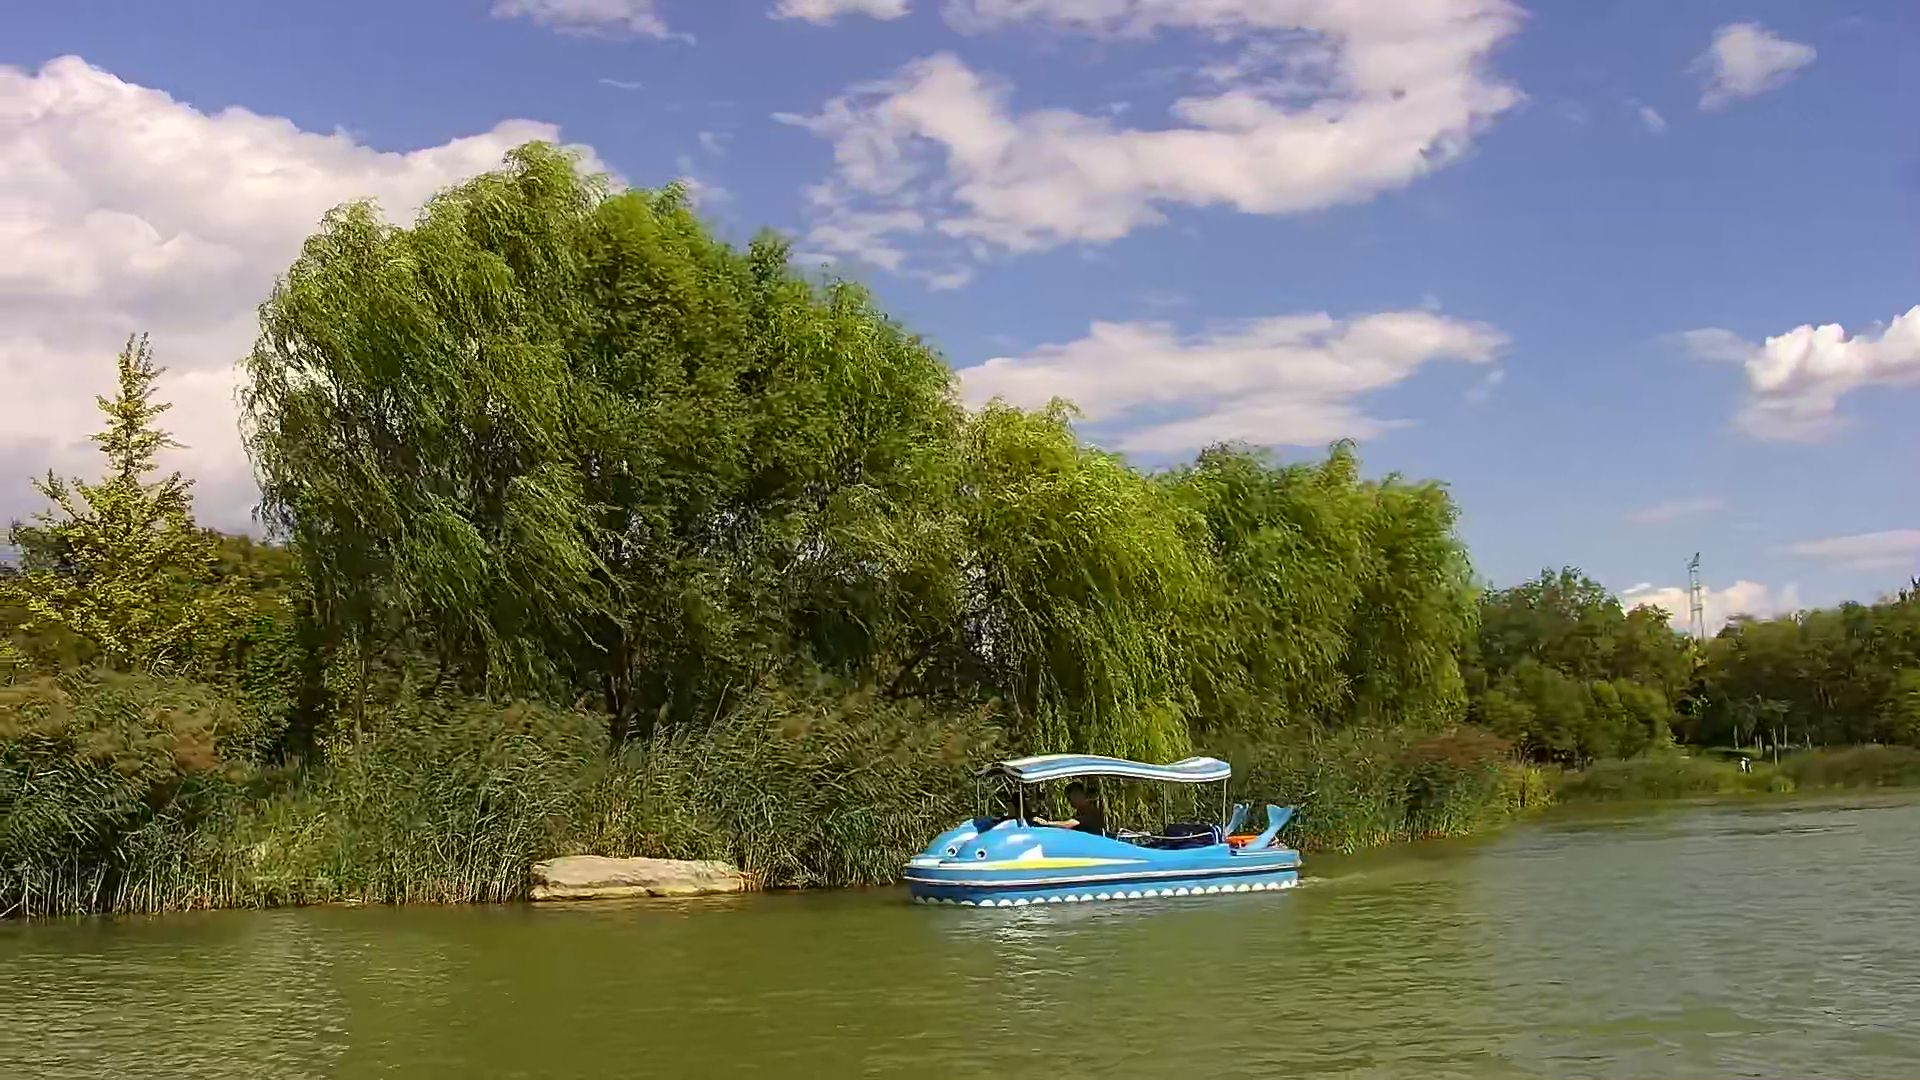boat: (896, 755, 1302, 910)
person: (1054, 783, 1104, 836)
rock: (529, 856, 750, 902)
